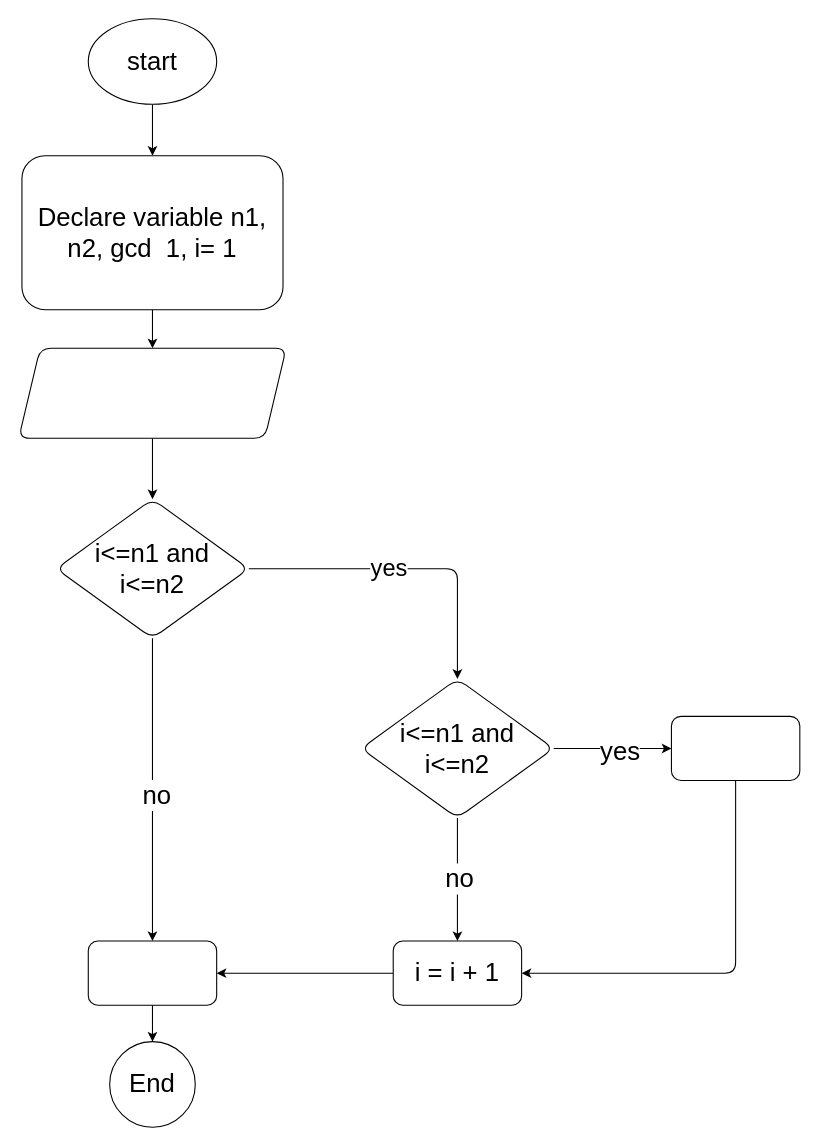
Image size: 819x1146. Some labels were removed from this diagram. The shapes that lost their labels are listed below. From the top down, each one's centre as x and y in pixels, then its label:
At [152,392]: "input n1 and n2".
At [735,748]: "gcd = 1".
At [152,972]: "print gcd".
